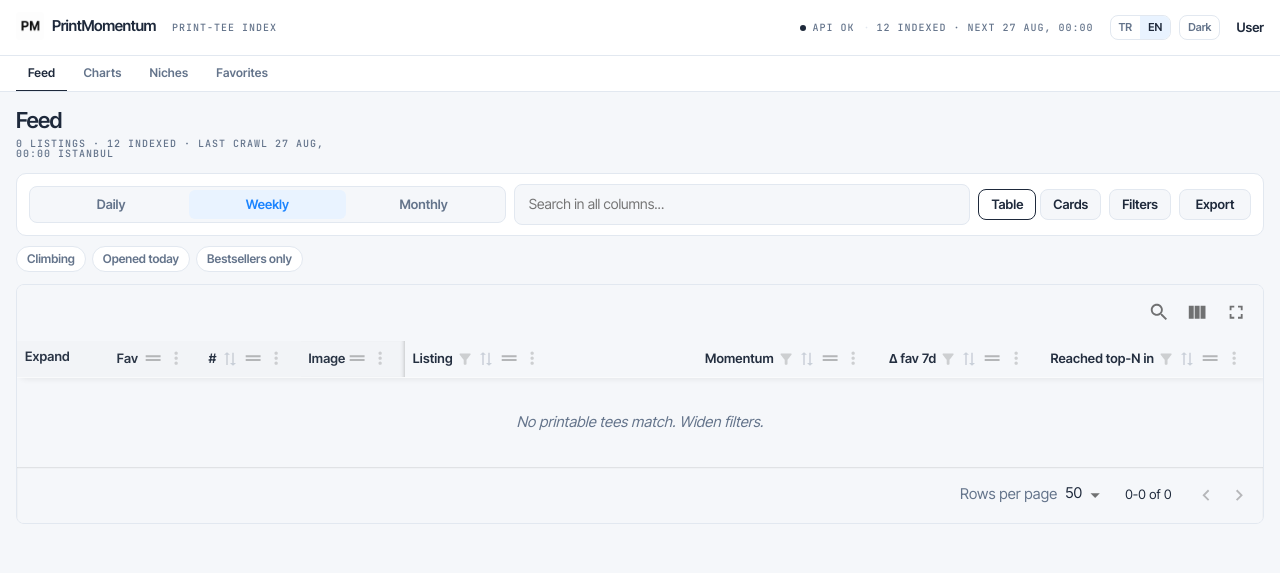
Test: AppRoutes › opens change password from the profile menu
This screenshot has width=1280, height=573.
Click the button "User" at (1250, 28), box [1236, 15, 1264, 40]
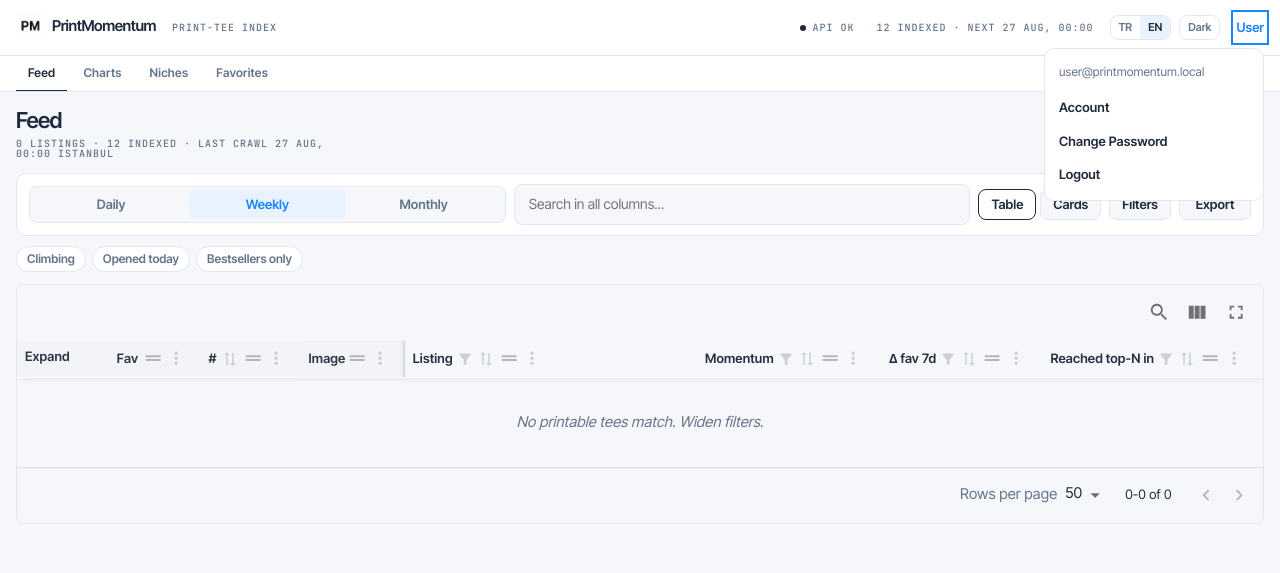
Click the menu item "Change Password" at (1113, 141), box [1059, 133, 1168, 149]
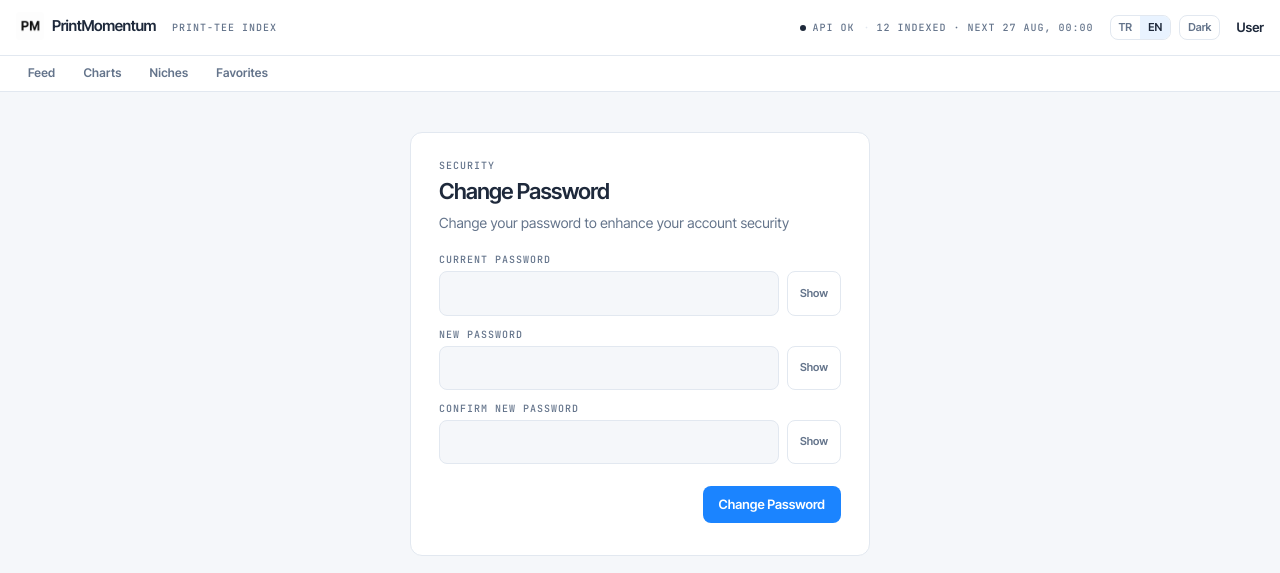
Expected: the heading "Change Password" is shown, [439, 178, 609, 204]
